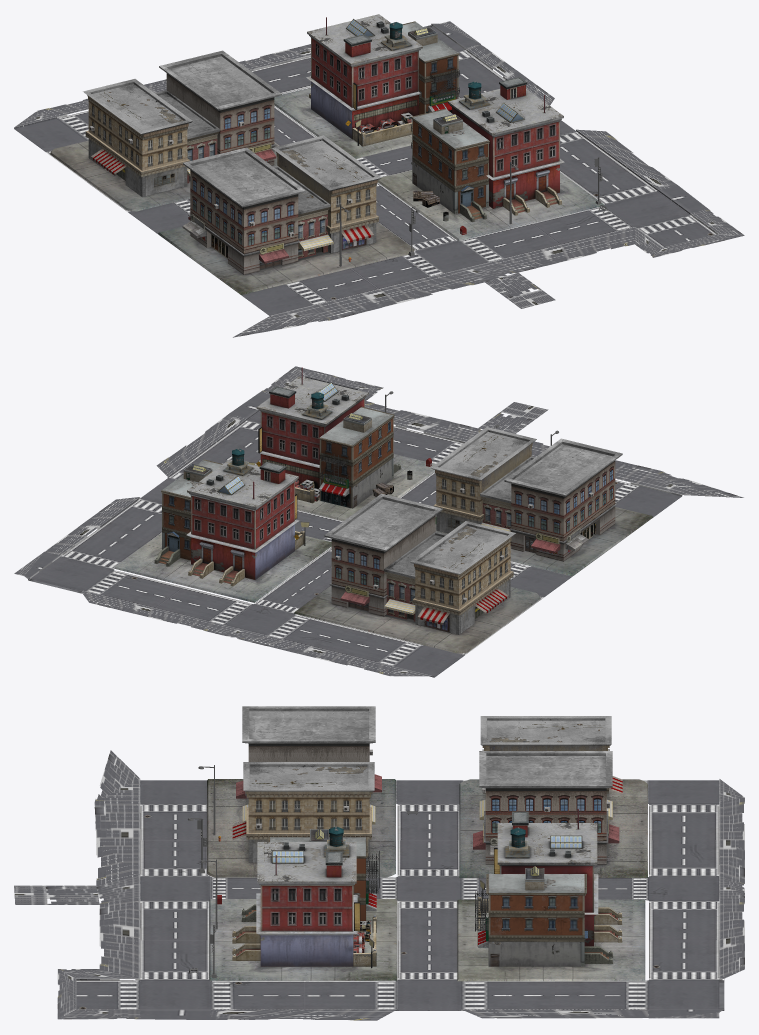
The model's file is Walmart_scene.FBX.
3 renders of one model, top to bottom at view 1: azimuth 30°, elevation 25°; view 2: azimuth 150°, elevation 25°; view 3: azimuth 270°, elevation 25°, orthographic. The views are drawn at different scales.
Parts seen in each view (by area): view 1: TMNT_Road, TMNT_BUILDING_4, TMNT_BUILDING_028, TMNT_BUILDING_7, TMNT_BUILDING_030, TMNT_BUILDING_031, TMNT_BUILDING_6, TMNT_BUILDING_27, TMNT_BUILDING_029; view 2: TMNT_Road, TMNT_BUILDING_031, TMNT_BUILDING_4, TMNT_BUILDING_028, TMNT_BUILDING_030, TMNT_BUILDING_7, TMNT_BUILDING_029, TMNT_BUILDING_6, TMNT_BUILDING_27; view 3: TMNT_Road, TMNT_BUILDING_029, TMNT_BUILDING_031, TMNT_BUILDING_6, TMNT_BUILDING_4, TMNT_BUILDING_27, TMNT_BUILDING_7, TMNT_BUILDING_028, TMNT_BUILDING_030.
Part boxes in pixels (box(x1,y1,x2,y2)): TMNT_Road: box(14, 21, 744, 337); TMNT_BUILDING_4: box(158, 147, 414, 294); TMNT_BUILDING_028: box(306, 14, 422, 146); TMNT_BUILDING_7: box(377, 108, 604, 240); TMNT_BUILDING_030: box(83, 79, 219, 196); TMNT_BUILDING_031: box(50, 50, 281, 211); TMNT_BUILDING_6: box(448, 77, 564, 215); TMNT_BUILDING_27: box(272, 135, 381, 258); TMNT_BUILDING_029: box(274, 21, 459, 158); TMNT_Road: box(14, 366, 743, 677); TMNT_BUILDING_031: box(294, 493, 540, 653); TMNT_BUILDING_4: box(435, 438, 653, 576); TMNT_BUILDING_028: box(186, 448, 309, 586); TMNT_BUILDING_030: box(384, 521, 515, 634); TMNT_BUILDING_7: box(255, 406, 435, 520); TMNT_BUILDING_029: box(114, 459, 331, 602); TMNT_BUILDING_6: box(249, 367, 368, 503); TMNT_BUILDING_27: box(431, 427, 536, 545); TMNT_Road: box(14, 750, 744, 1020); TMNT_BUILDING_029: box(457, 866, 645, 981); TMNT_BUILDING_031: box(459, 751, 647, 877); TMNT_BUILDING_6: box(232, 826, 376, 968); TMNT_BUILDING_4: box(207, 706, 395, 877); TMNT_BUILDING_27: box(232, 762, 375, 862); TMNT_BUILDING_7: box(209, 829, 397, 980); TMNT_BUILDING_028: box(477, 809, 622, 946); TMNT_BUILDING_030: box(479, 716, 622, 819).
Size of the model in its own units: 919 by 180 by 1048.
